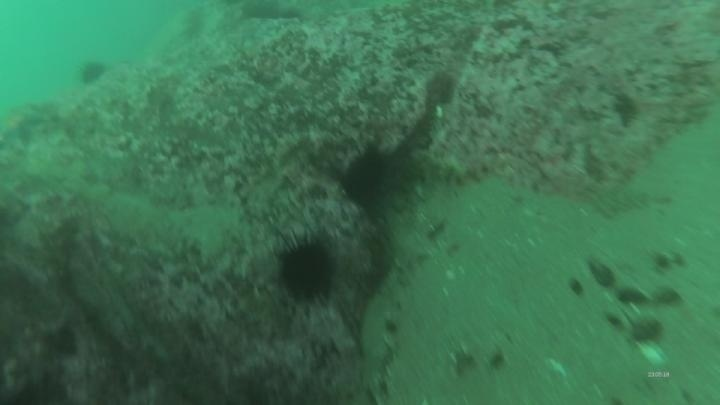echinus: (272, 231, 340, 306), (338, 143, 398, 210), (76, 58, 109, 88)
holothurian: (354, 205, 440, 375), (408, 147, 477, 188)
starfish: (0, 100, 47, 149)
